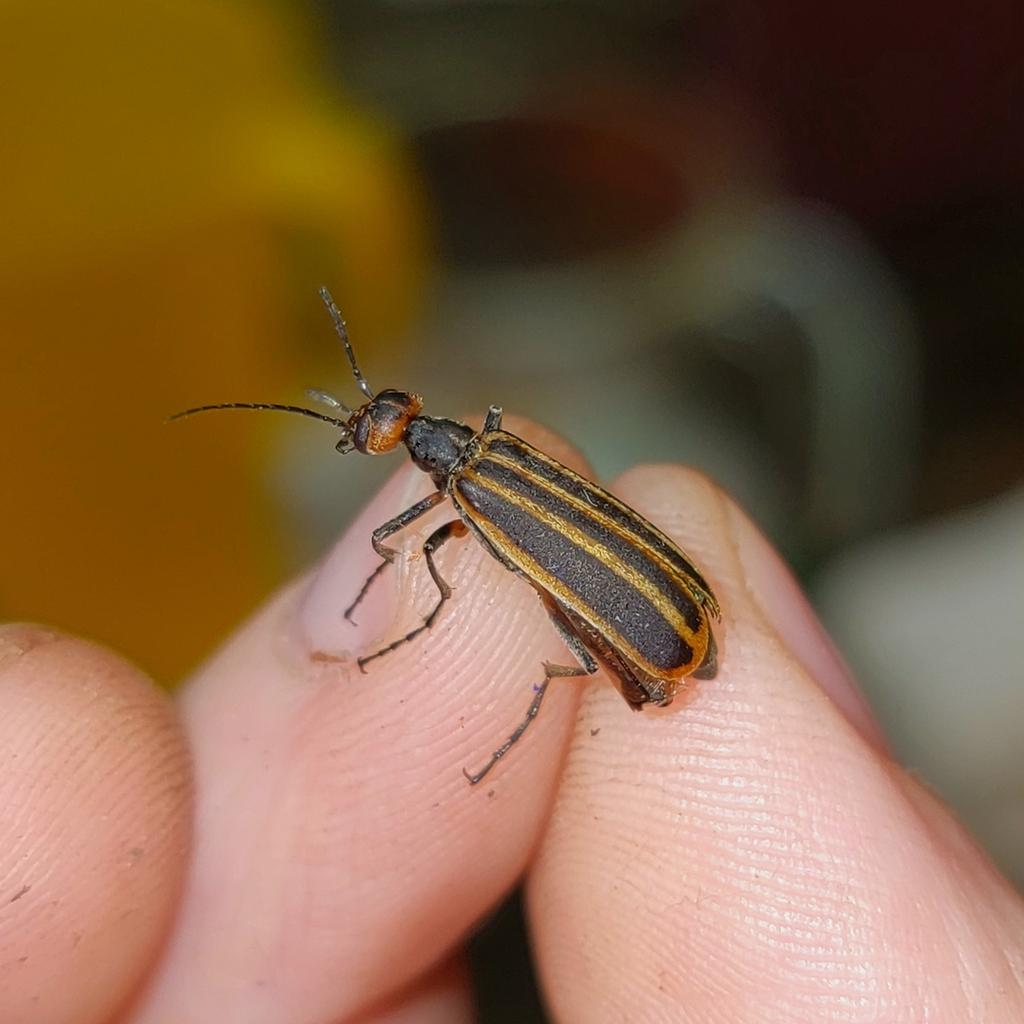blister_beetle: (124, 204, 935, 853)
